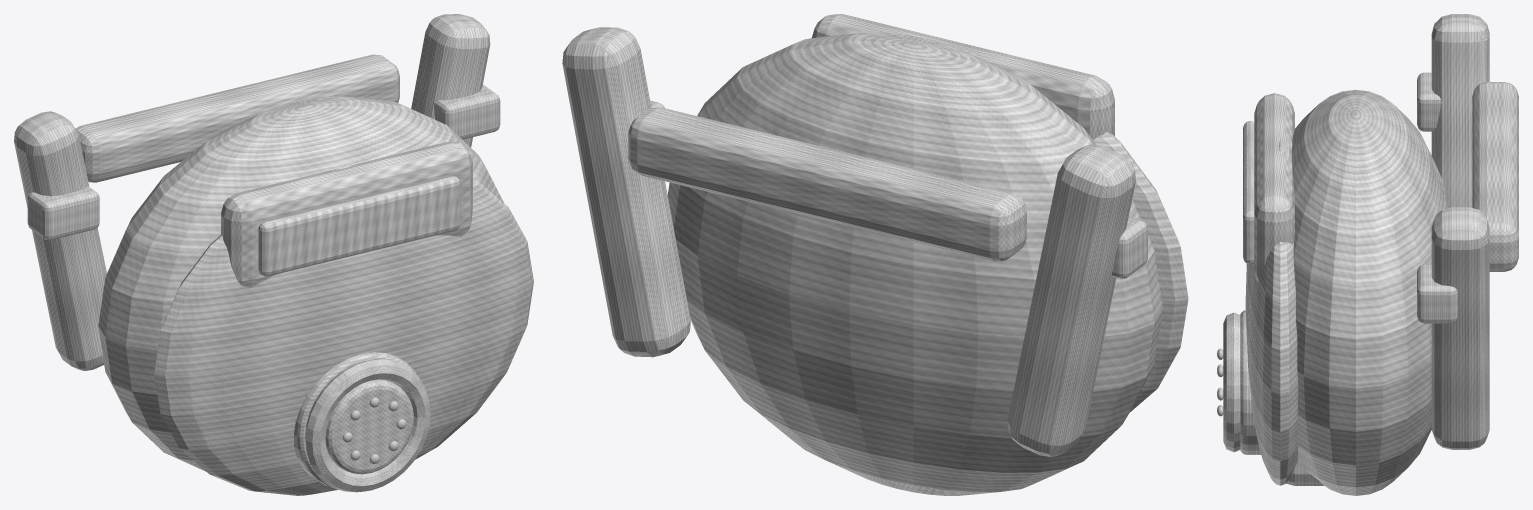
File: gas_mask_variant_b.glb
3 views of the same model, side by side, from view 1: azimuth 30°, elevation 25°; view 2: azimuth 150°, elevation 25°; view 3: azimuth 270°, elevation 25° (orthographic). The views are drawn at different scales.
Visible parts, largest first — view 1: Face seal, Facepiece, Rear strap bridge.001, Head strap.002, Wide visor frame, Panoramic lens, Filter retaining ring.003, Filter grille.002, Head strap.003, Strap adjuster.002, Strap adjuster.003, Filter housing.002; view 2: Facepiece, Rear strap bridge.001, Head strap.003, Head strap.002, Wide visor frame, Face seal, Strap adjuster.002; view 3: Facepiece, Head strap.003, Face seal, Head strap.002, Rear strap bridge.001, Wide visor frame, Filter retaining ring.003, Strap adjuster.003, Panoramic lens, Filter housing.002, Strap adjuster.002, Lower chin guard.
Part boxes in pixels (x1,y1,x2,y2): Face seal: (154,164,533,495); Facepiece: (98,96,503,471); Rear strap bridge.001: (75,54,399,182); Head strap.002: (14,111,106,370); Wide visor frame: (221,142,472,287); Panoramic lens: (258,176,460,276); Filter retaining ring.003: (305,359,430,492); Filter grille.002: (325,379,413,474); Head strap.003: (411,14,490,147); Strap adjuster.002: (27,186,99,240); Strap adjuster.003: (434,84,500,139); Filter housing.002: (294,352,416,487); Facepiece: (667,32,1162,495); Rear strap bridge.001: (628,107,1026,261); Head strap.003: (562,27,690,357); Head strap.002: (1007,144,1135,457); Wide visor frame: (812,14,1114,139); Face seal: (961,49,1188,411); Strap adjuster.002: (1112,217,1147,278); Facepiece: (1291,90,1449,495); Head strap.003: (1431,207,1489,449); Face seal: (1245,138,1298,485); Head strap.002: (1431,14,1489,207); Rear strap bridge.001: (1472,82,1518,271); Wide visor frame: (1254,93,1294,280); Filter retaining ring.003: (1223,312,1240,452); Strap adjuster.003: (1417,264,1457,323); Panoramic lens: (1243,121,1254,264); Filter housing.002: (1240,310,1261,454); Strap adjuster.002: (1417,72,1441,131); Lower chin guard: (1286,461,1324,485).
Size of what is drawn, in the model's own units: 0.8995 by 0.68 by 0.519.
Materials: 8 (8 with a texture image).
